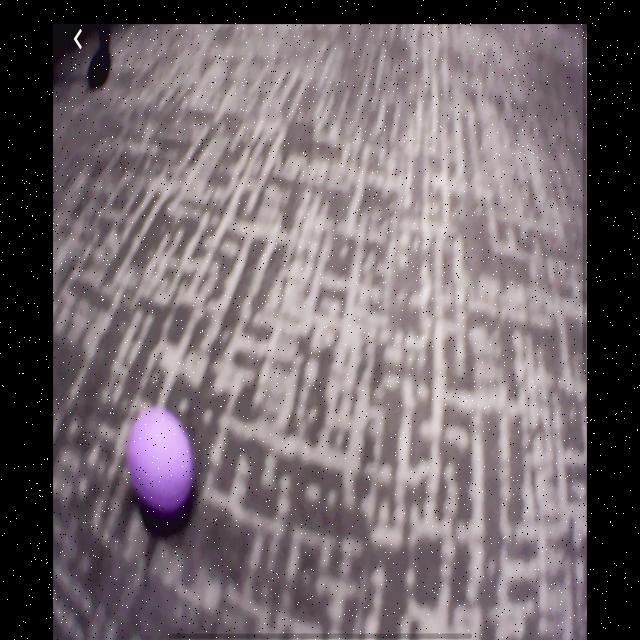ball: (126, 406, 196, 518)
